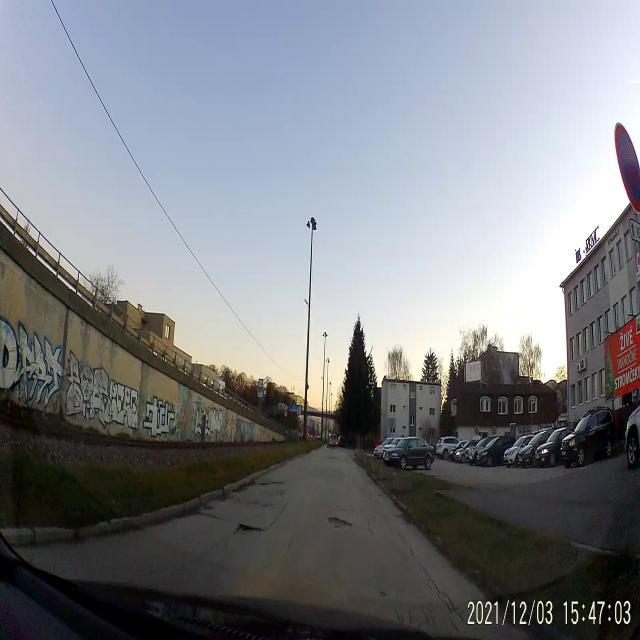Pothole: (232, 520, 266, 542), (326, 514, 354, 534), (192, 503, 220, 523), (250, 480, 286, 490)
